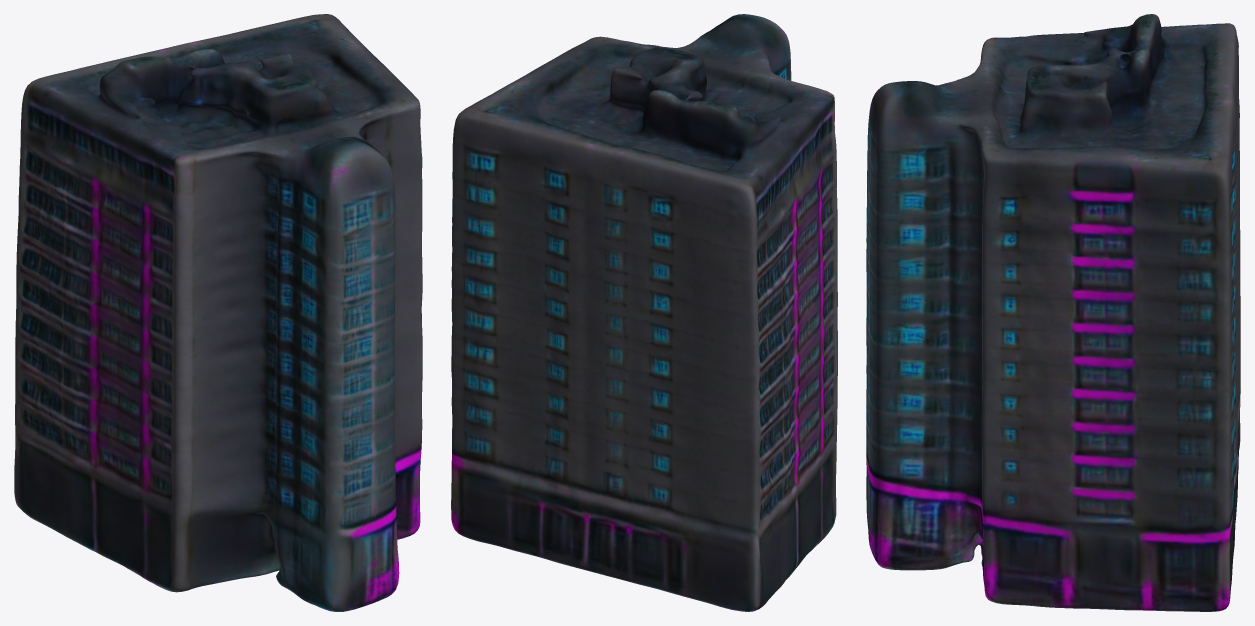
Rendered from 2e1c77ec4400_a_tall__minimalist_futuristic_sk.glb.
3 renders of one model, left to right at view 1: azimuth 30°, elevation 25°; view 2: azimuth 150°, elevation 25°; view 3: azimuth 270°, elevation 25°, orthographic. The views are drawn at different scales.
Visible parts, largest first — view 1: geometry_0; view 2: geometry_0; view 3: geometry_0.
Part boxes in pixels (<box>): geometry_0: <box>14,14,422,611</box>; geometry_0: <box>451,14,837,611</box>; geometry_0: <box>866,14,1240,611</box>.
Bounding box in the file's own units: 0.3022 × 0.4347 × 0.3018.
1 material, 1 textured.
